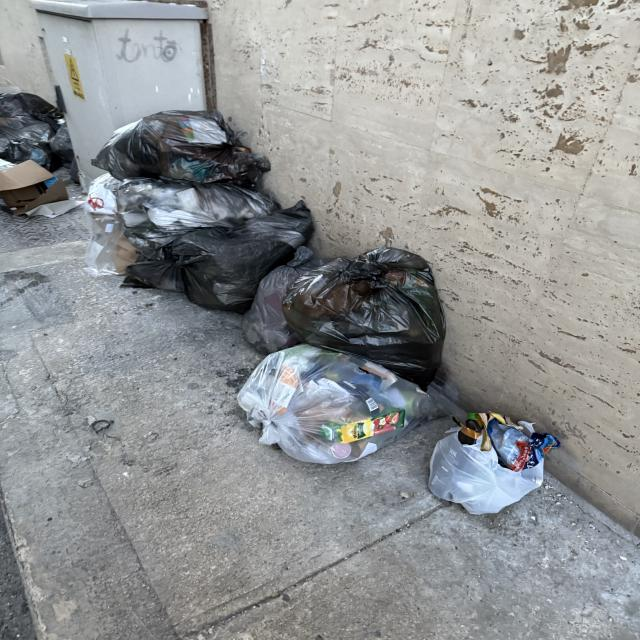Mixed Waste -Black Bags-: (92, 109, 444, 391), (0, 93, 74, 171)
Recyclable Material -Grey Bags-: (236, 345, 452, 463), (84, 173, 134, 275)
